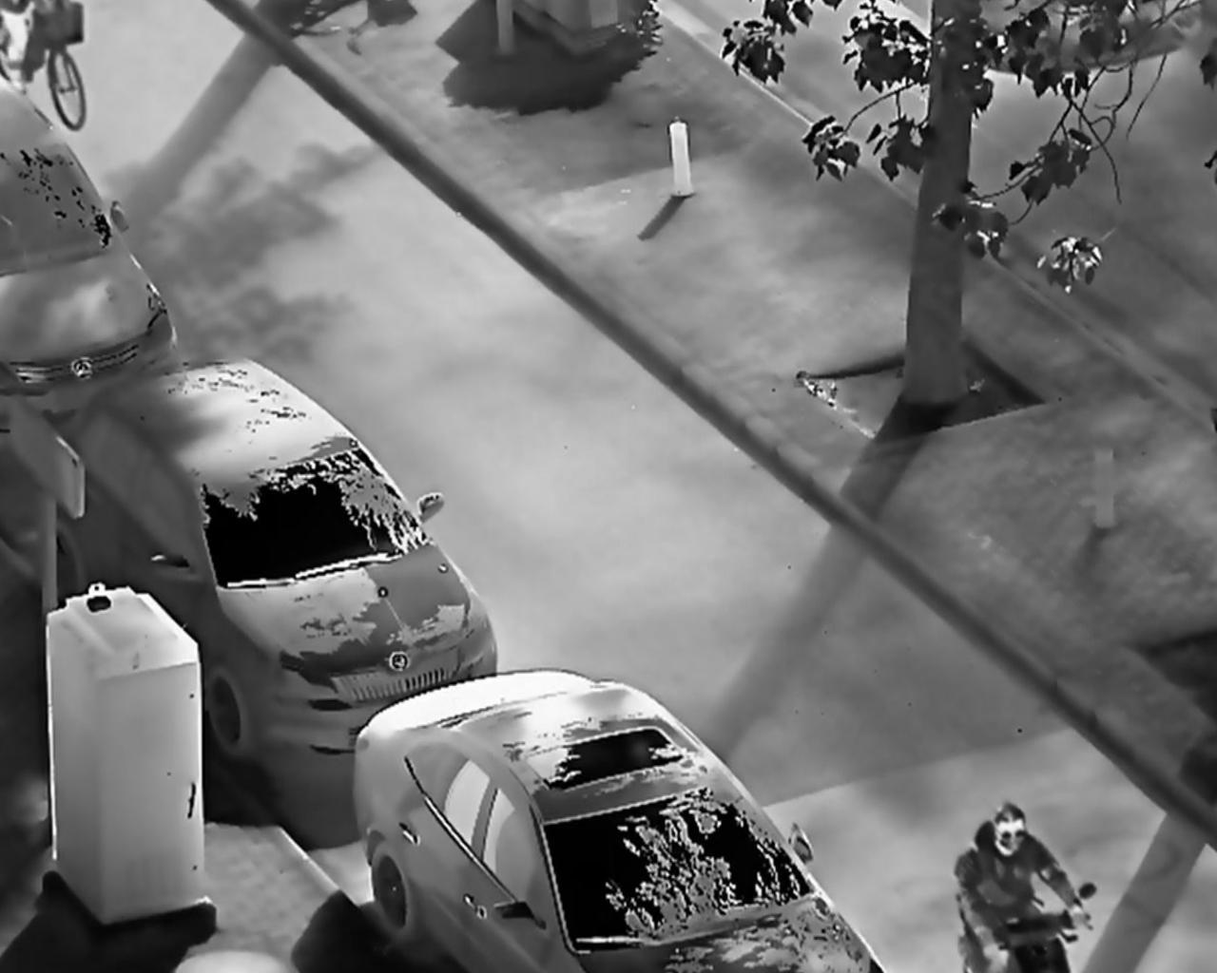person: (952, 800, 1091, 973)
